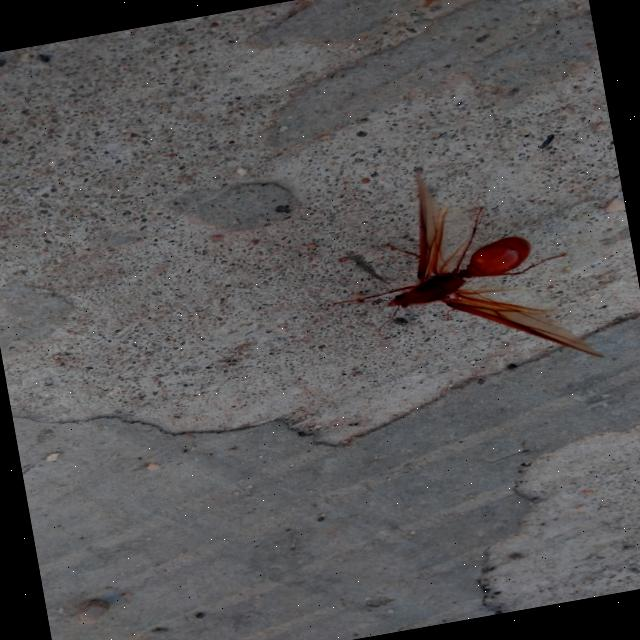Alive-Male-Alate: (310, 142, 605, 402)
